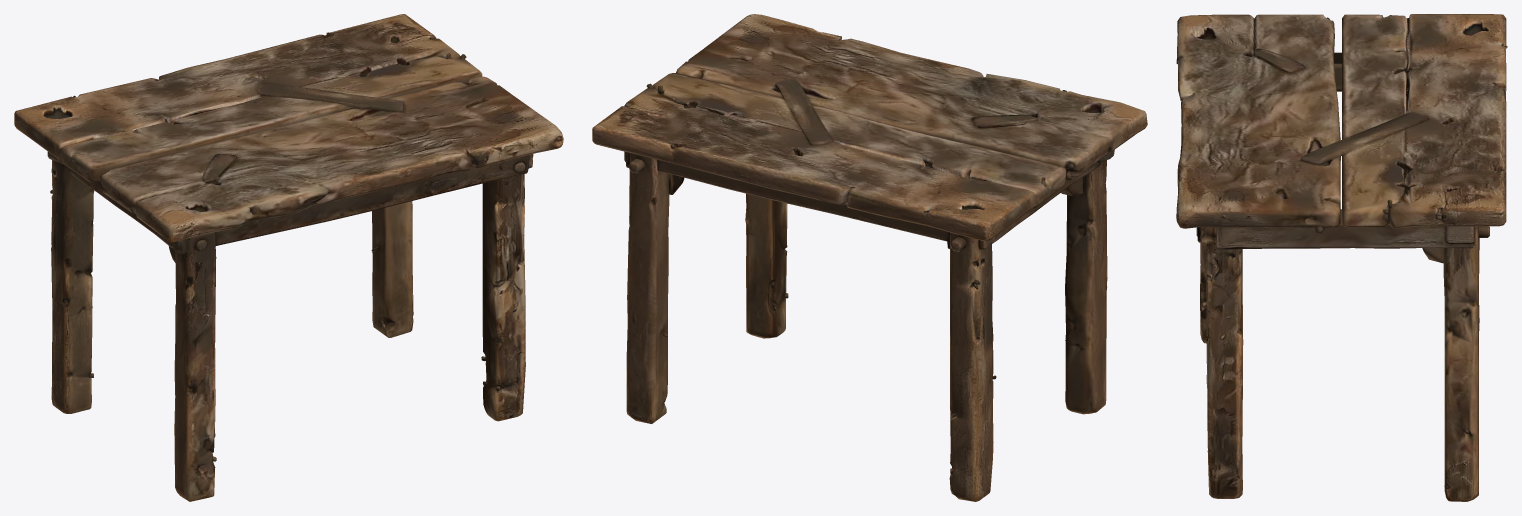
The model's file is prop_table_small.glb.
3 views of the same model, side by side, from view 1: azimuth 30°, elevation 25°; view 2: azimuth 150°, elevation 25°; view 3: azimuth 270°, elevation 25° (orthographic). The views are drawn at different scales.
Visible parts, largest first — view 1: tripo_node_d67bad0d-d43f-4fd3-8ebf-1522b773e598; view 2: tripo_node_d67bad0d-d43f-4fd3-8ebf-1522b773e598; view 3: tripo_node_d67bad0d-d43f-4fd3-8ebf-1522b773e598.
Part boxes in pixels (<box>): tripo_node_d67bad0d-d43f-4fd3-8ebf-1522b773e598: <box>14,14,563,501</box>; tripo_node_d67bad0d-d43f-4fd3-8ebf-1522b773e598: <box>592,14,1147,501</box>; tripo_node_d67bad0d-d43f-4fd3-8ebf-1522b773e598: <box>1176,14,1507,501</box>.
Size of the model in its own units: 1.2 by 0.8658 by 0.8424.
Materials: 1 (1 with a texture image).
